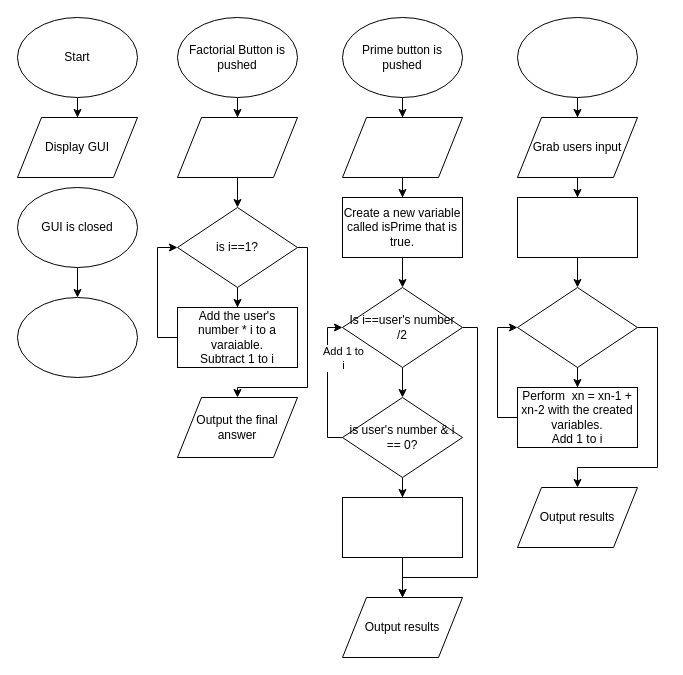
The diagram is 683 pixels wide and 675 high, and some of its shapes have lost their labels. The box of each missing label's shape, as (x1, y1, x2, y2) in pixels:
Create a few variables to help with the Fibonacci calculations.: (516, 196, 638, 258)
End: (16, 296, 138, 378)
Fibonacci button is pushed: (516, 16, 638, 98)
Grab the users input: (342, 116, 462, 178)
Grab users input and subtract 1: (176, 116, 298, 178)
is i== users number?: (516, 286, 638, 368)
Set isPrime to false and break: (342, 496, 462, 558)
